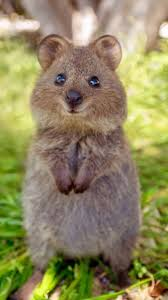quokka: (18, 30, 146, 283)
